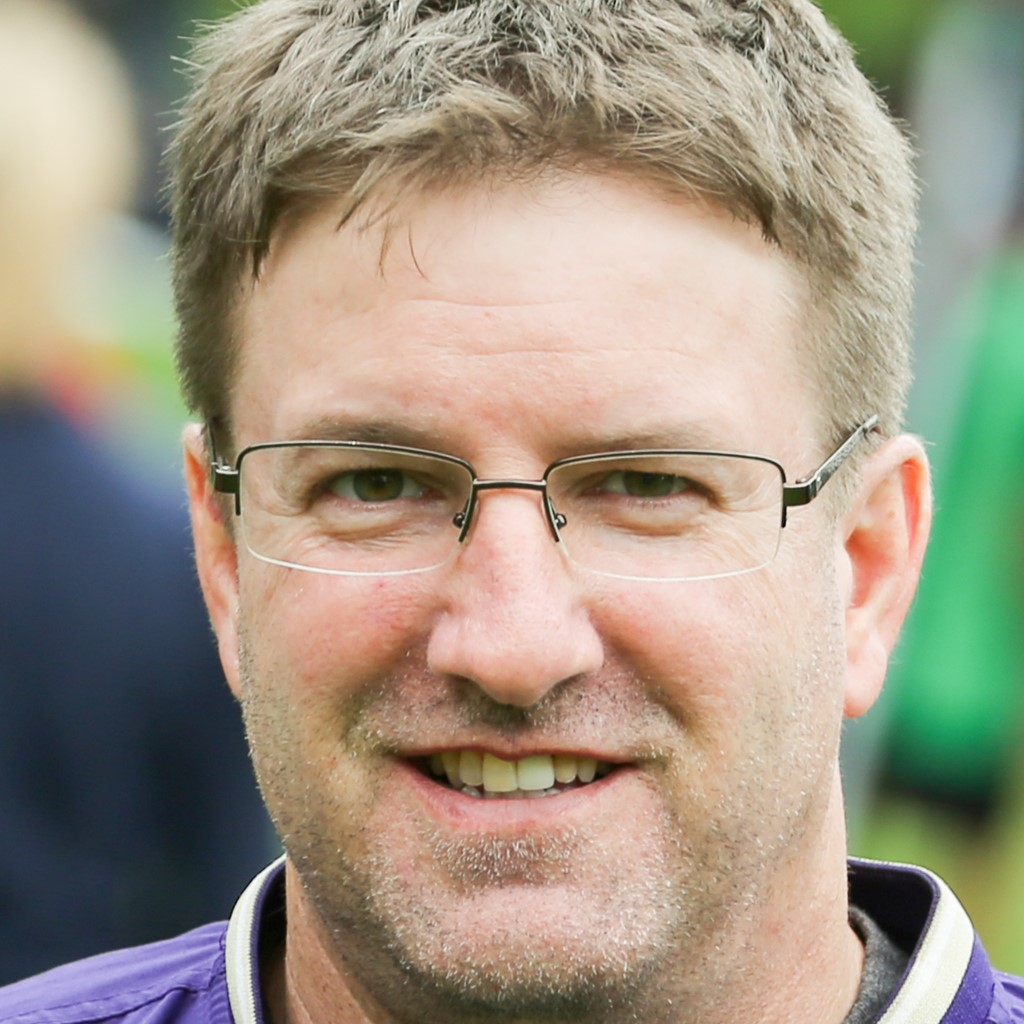sin_mascara: (185, 49, 871, 1003)
